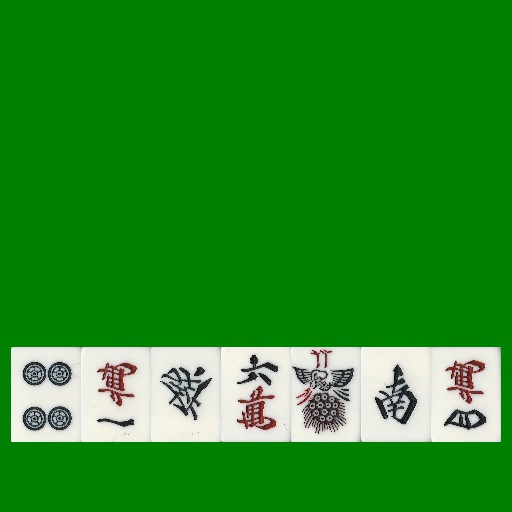1m: (81, 347, 151, 442)
1s: (291, 347, 361, 442)
4m: (431, 347, 501, 442)
4p: (11, 347, 81, 442)
6m: (221, 347, 291, 442)
hatsu: (151, 347, 221, 442)
south: (361, 347, 431, 442)
